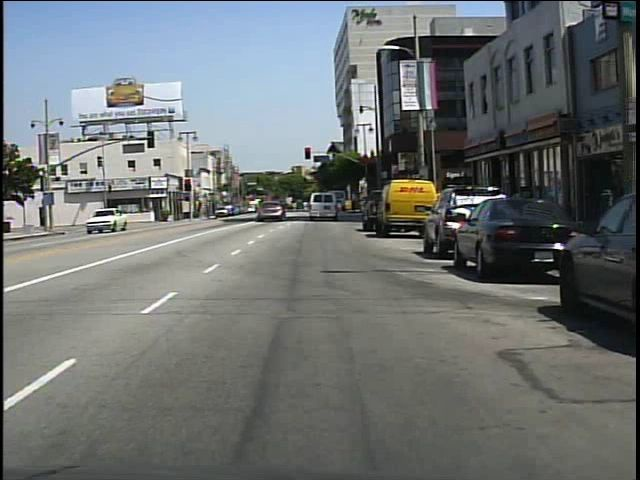person: (253, 193, 270, 222), (96, 202, 111, 230)
